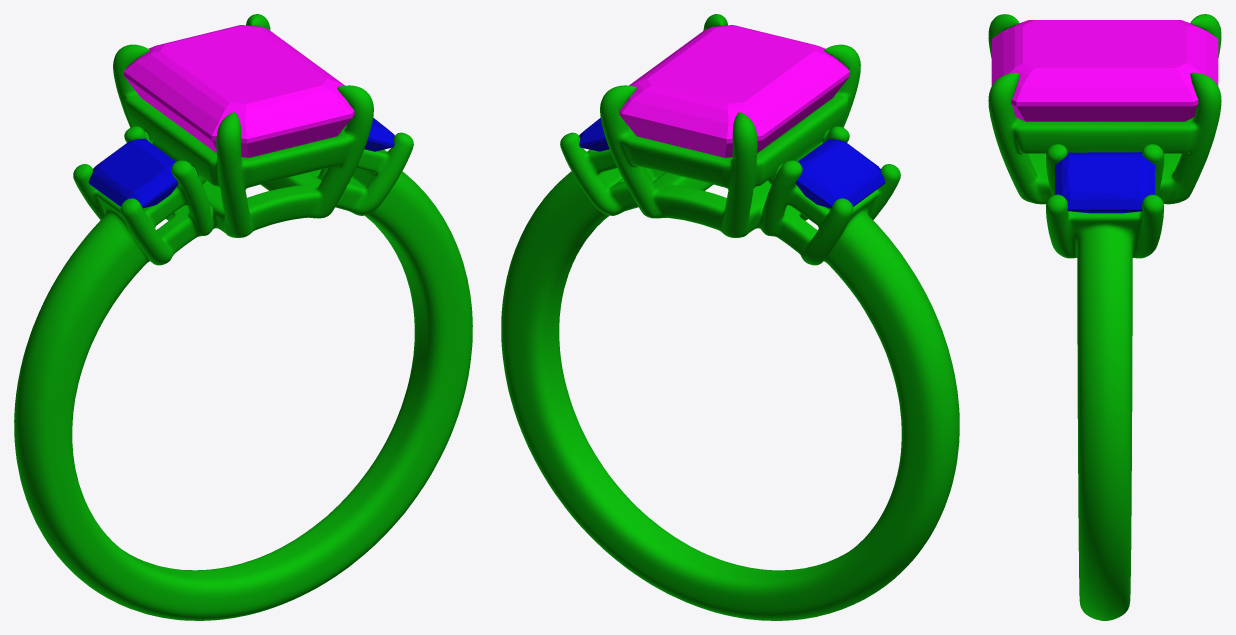
The model's file is BE1D8418_EM_200ct_RENDER.glb.
3 renders of one model, left to right at view 1: azimuth 30°, elevation 25°; view 2: azimuth 150°, elevation 25°; view 3: azimuth 270°, elevation 25°, orthographic.
Parts seen in each view (by area): view 1: Metal 01, CS_Diamond_Emerald, Diamond_Radiant_side.001, Diamond_Radiant_side; view 2: Metal 01, CS_Diamond_Emerald, Diamond_Radiant_side.001, Diamond_Radiant_side; view 3: Metal 01, CS_Diamond_Emerald, Diamond_Radiant_side.
Part boxes in pixels (box(x1,y1,x2,y2)): Metal 01: box(14, 14, 472, 620); CS_Diamond_Emerald: box(124, 25, 354, 157); Diamond_Radiant_side.001: box(88, 138, 178, 208); Diamond_Radiant_side: box(364, 118, 394, 151); Metal 01: box(501, 14, 959, 620); CS_Diamond_Emerald: box(619, 25, 849, 157); Diamond_Radiant_side.001: box(795, 139, 885, 208); Diamond_Radiant_side: box(579, 118, 609, 151); Metal 01: box(988, 14, 1221, 620); CS_Diamond_Emerald: box(991, 20, 1218, 121); Diamond_Radiant_side: box(1055, 152, 1154, 213).
Bounding box in the file's own units: 20.83 × 24.19 × 9.25.
